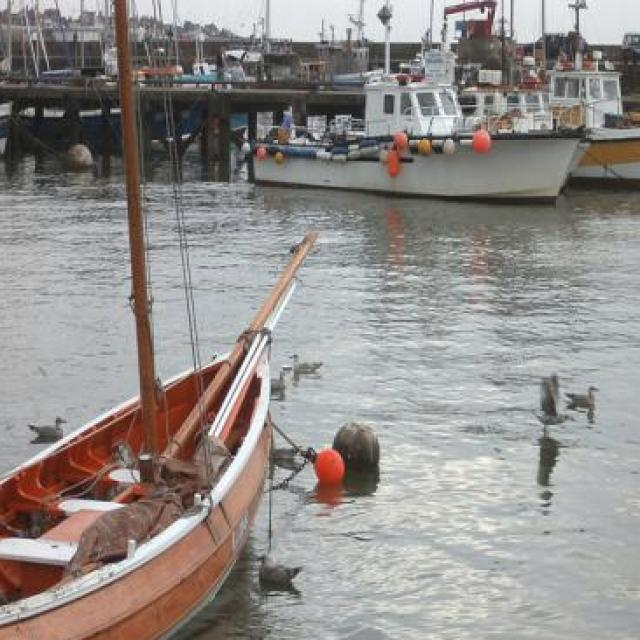ship: (0, 327, 275, 640), (256, 0, 590, 201), (549, 47, 640, 191), (0, 67, 16, 159)
